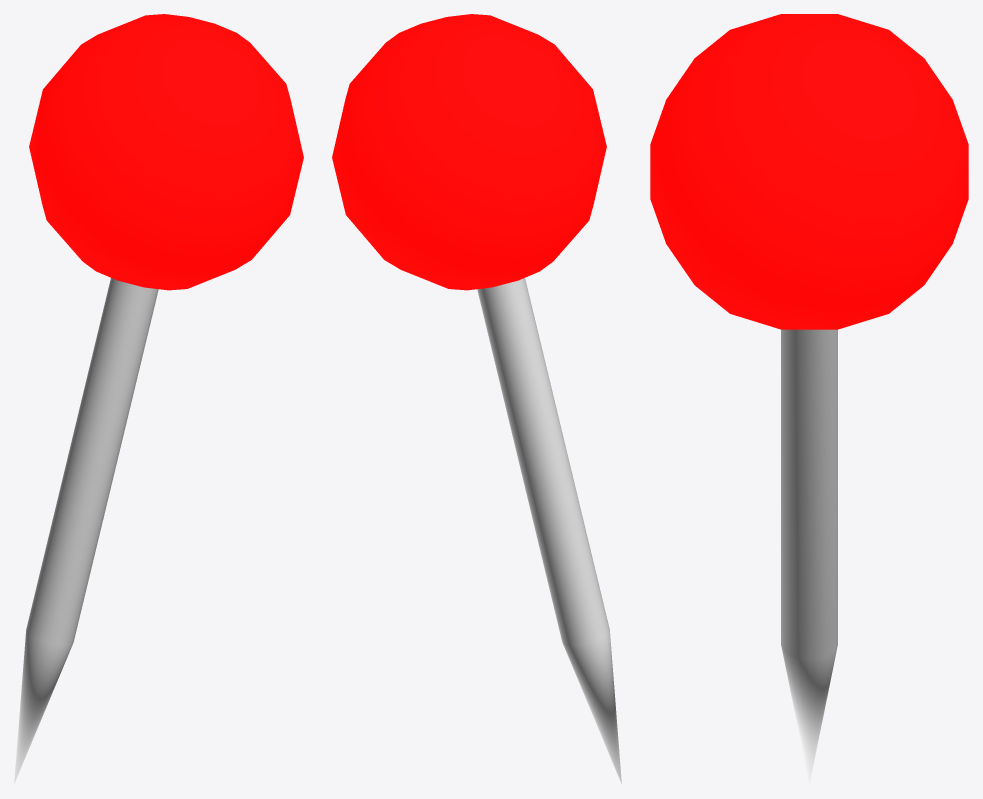
The model's file is pin.DAE.
3 views of the same model, side by side, from view 1: azimuth 30°, elevation 25°; view 2: azimuth 150°, elevation 25°; view 3: azimuth 270°, elevation 25° (orthographic). The views are drawn at different scales.
Visible parts, largest first — view 1: Sphere001, Cylinder001; view 2: Sphere001, Cylinder001; view 3: Sphere001, Cylinder001.
Part boxes in pixels (<box>): Sphere001: <box>29,14,303,290</box>; Cylinder001: <box>14,278,158,784</box>; Sphere001: <box>332,14,606,290</box>; Cylinder001: <box>477,278,621,784</box>; Sphere001: <box>650,14,968,329</box>; Cylinder001: <box>781,329,837,784</box>.
Size of the model in its own units: 5.43 by 4.72 by 13.83.
